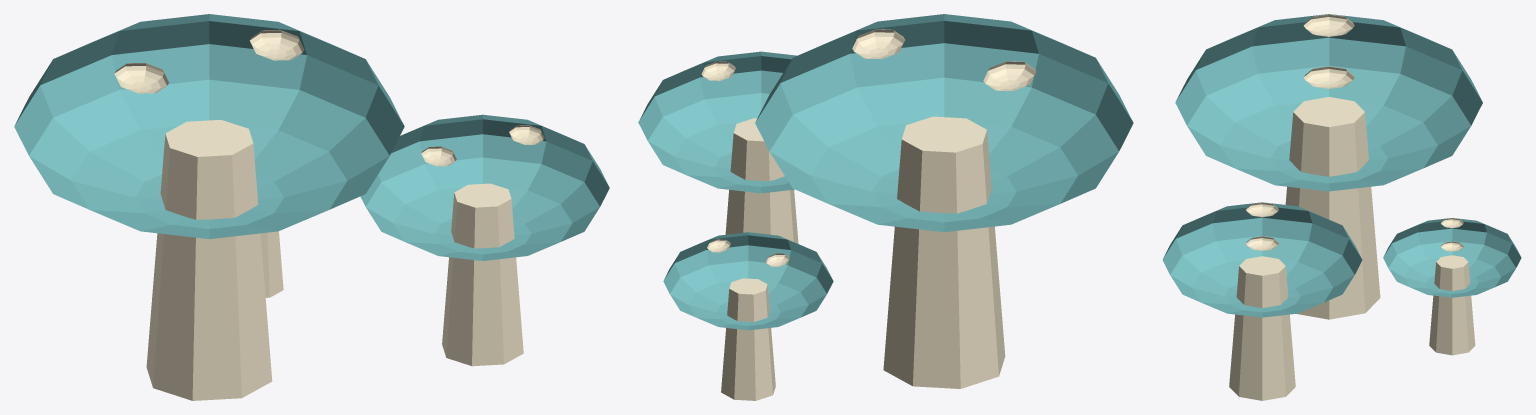
File: meadow-courier-spotted-mushroom-clump__37.glb
3 renders of one model, left to right at view 1: azimuth 30°, elevation 25°; view 2: azimuth 150°, elevation 25°; view 3: azimuth 270°, elevation 25°, orthographic. The views are drawn at different scales.
Visible parts, largest first — view 1: meadow-courier-mushroom-clump; view 2: meadow-courier-mushroom-clump; view 3: meadow-courier-mushroom-clump.
Part boxes in pixels (x1=…): meadow-courier-mushroom-clump: x1=14, y1=14, x2=609, y2=400; meadow-courier-mushroom-clump: x1=638, y1=14, x2=1133, y2=400; meadow-courier-mushroom-clump: x1=1162, y1=14, x2=1521, y2=400.
Bounding box in the file's own units: 0.905 × 0.55 × 0.7.
